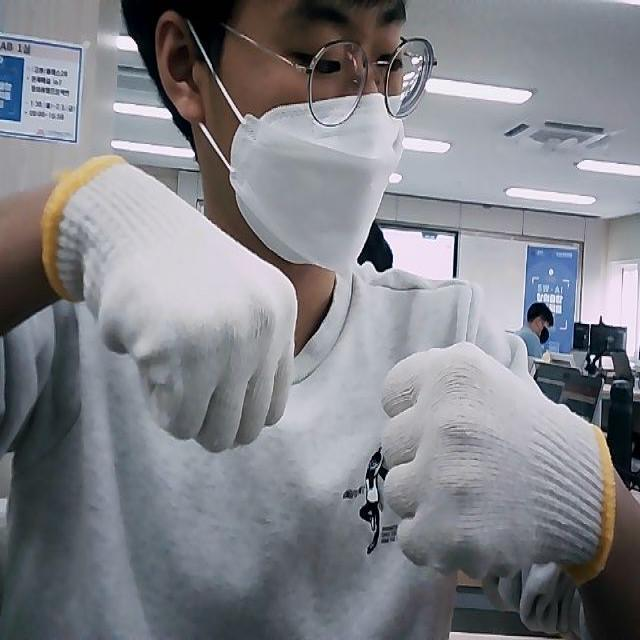gloves: (42, 156, 298, 452), (380, 342, 616, 580)
